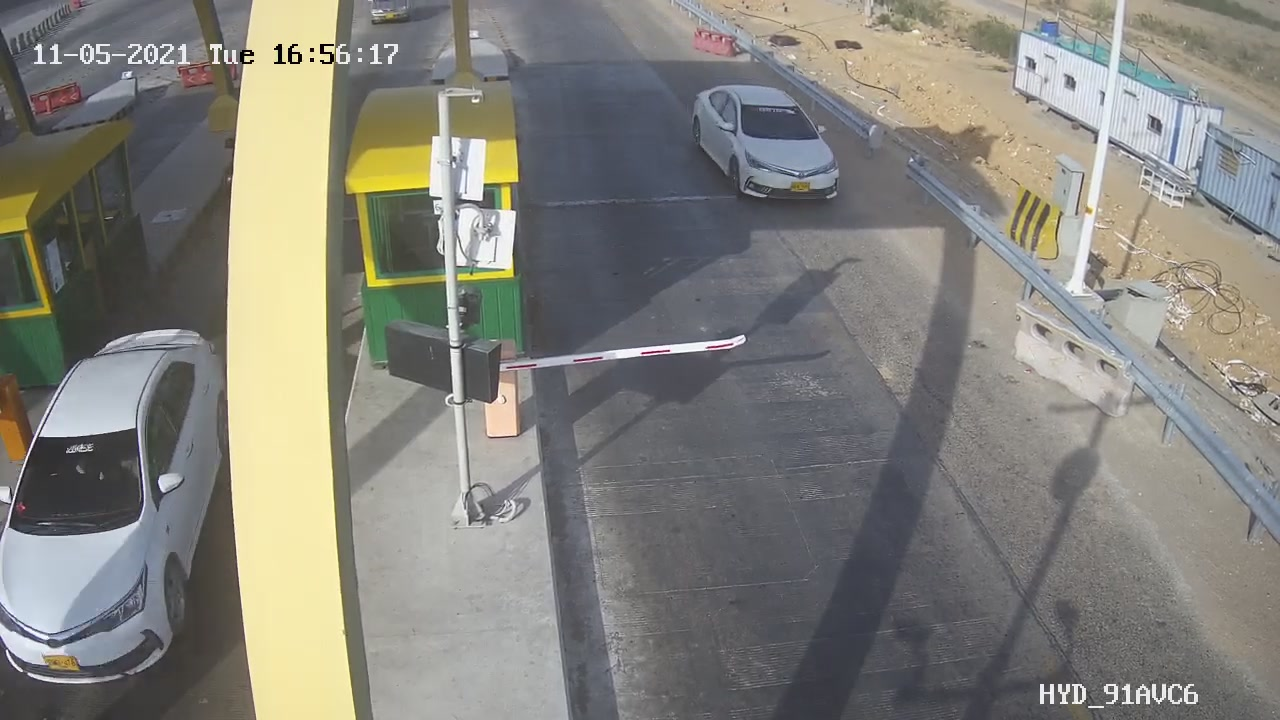F1: (677, 72, 863, 222)
